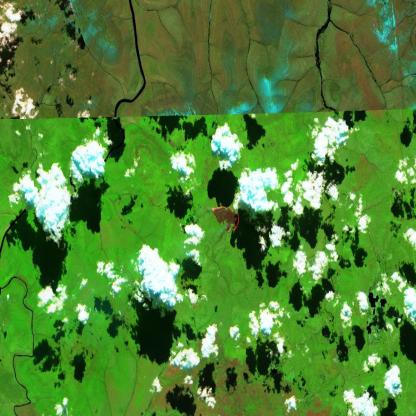fire: (207, 202, 242, 236)
